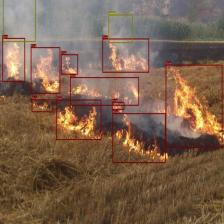fire: (166, 64, 222, 148), (112, 113, 166, 163), (70, 77, 139, 106), (56, 100, 101, 140), (102, 39, 149, 72), (31, 47, 60, 94), (2, 38, 25, 82), (61, 54, 78, 74), (32, 99, 52, 112), (112, 102, 124, 110)
smoke: (2, 0, 35, 41), (108, 14, 132, 43)
